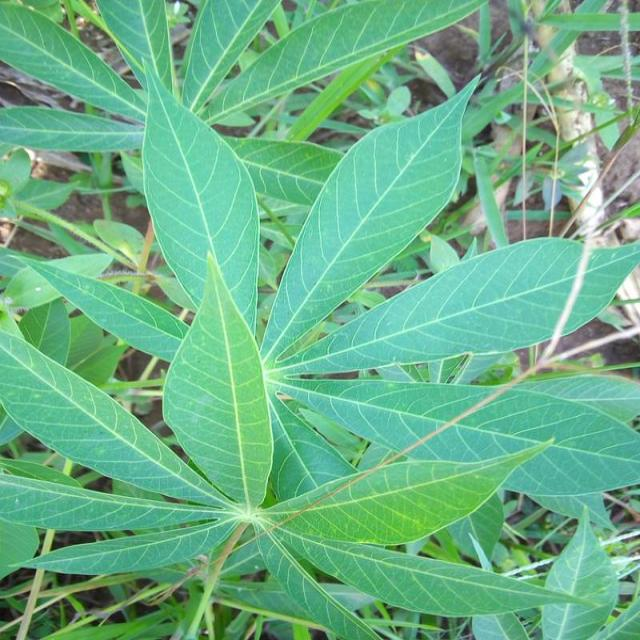cassava leaf: (1, 1, 638, 637), (258, 70, 482, 367), (139, 60, 260, 336), (160, 248, 274, 510)
